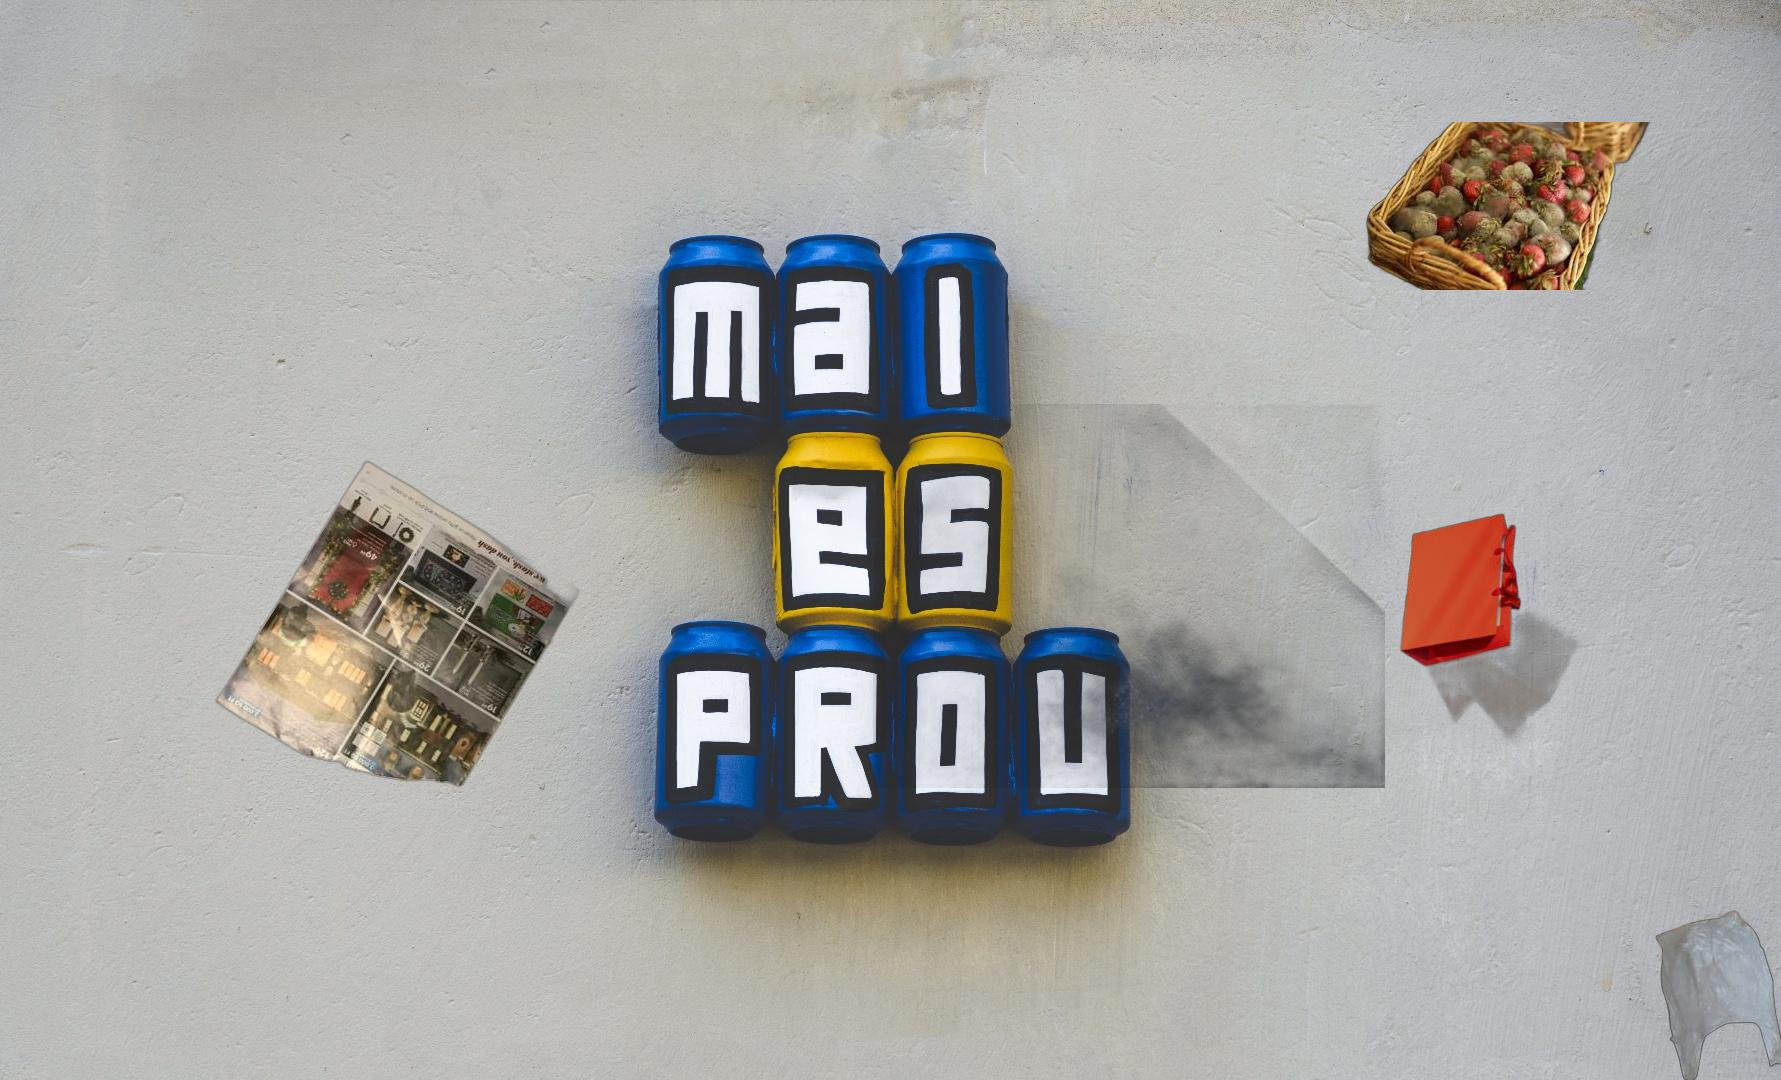biological: (1354, 122, 1654, 290)
paper: (212, 458, 581, 790)
paper-bag: (1342, 511, 1598, 748)
plastic-bag: (1655, 908, 1781, 1080)
trashbox-cardboard: (873, 405, 1385, 787)
